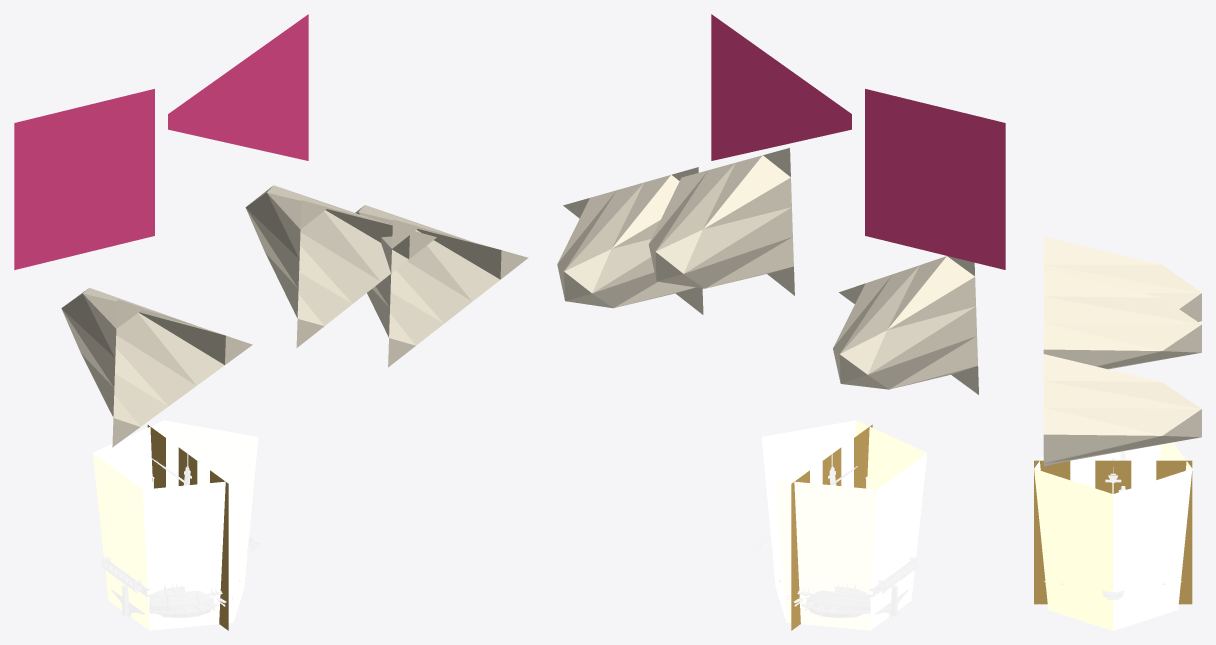
File: navire-chebec-leger.glb
3 renders of one model, left to right at view 1: azimuth 30°, elevation 25°; view 2: azimuth 150°, elevation 25°; view 3: azimuth 270°, elevation 25°, orthographic. The views are drawn at different scales.
Visible parts, largest first — view 1: navire_lumieres.005, drapeau.010, voile_artimon.009, voile_grande.010, flamme.010, voile_misaine.010, navire_corps.010, navire_vitres.005; view 2: navire_lumieres.005, drapeau.010, voile_grande.010, voile_artimon.009, voile_misaine.010, flamme.010, navire_corps.010, navire_vitres.005; view 3: navire_lumieres.005, voile_misaine.010, voile_grande.010, voile_artimon.009, navire_vitres.005, navire_corps.010.
Part boxes in pixels (x1,y1,x2,y2): navire_lumieres.005: (92,420,258,630); drapeau.010: (14,89,154,269); voile_artimon.009: (61,287,252,447); voile_grande.010: (245,185,436,347); flamme.010: (168,14,308,160); voile_misaine.010: (355,205,528,367); navire_corps.010: (100,454,261,617); navire_vitres.005: (147,425,228,630); navire_lumieres.005: (761,420,927,630); drapeau.010: (865,89,1005,269); voile_grande.010: (648,148,794,295); voile_artimon.009: (833,256,978,394); voile_misaine.010: (557,167,703,314); flamme.010: (711,14,851,160); navire_corps.010: (759,454,919,617); navire_vitres.005: (791,424,872,630); navire_lumieres.005: (1034,442,1192,630); voile_misaine.010: (1043,354,1201,466); voile_grande.010: (1043,270,1201,369); voile_artimon.009: (1043,236,1201,321); navire_vitres.005: (1034,460,1192,604); navire_corps.010: (1044,451,1181,599).
Size of the model in its own units: 6.81 by 7.58 by 2.12.
